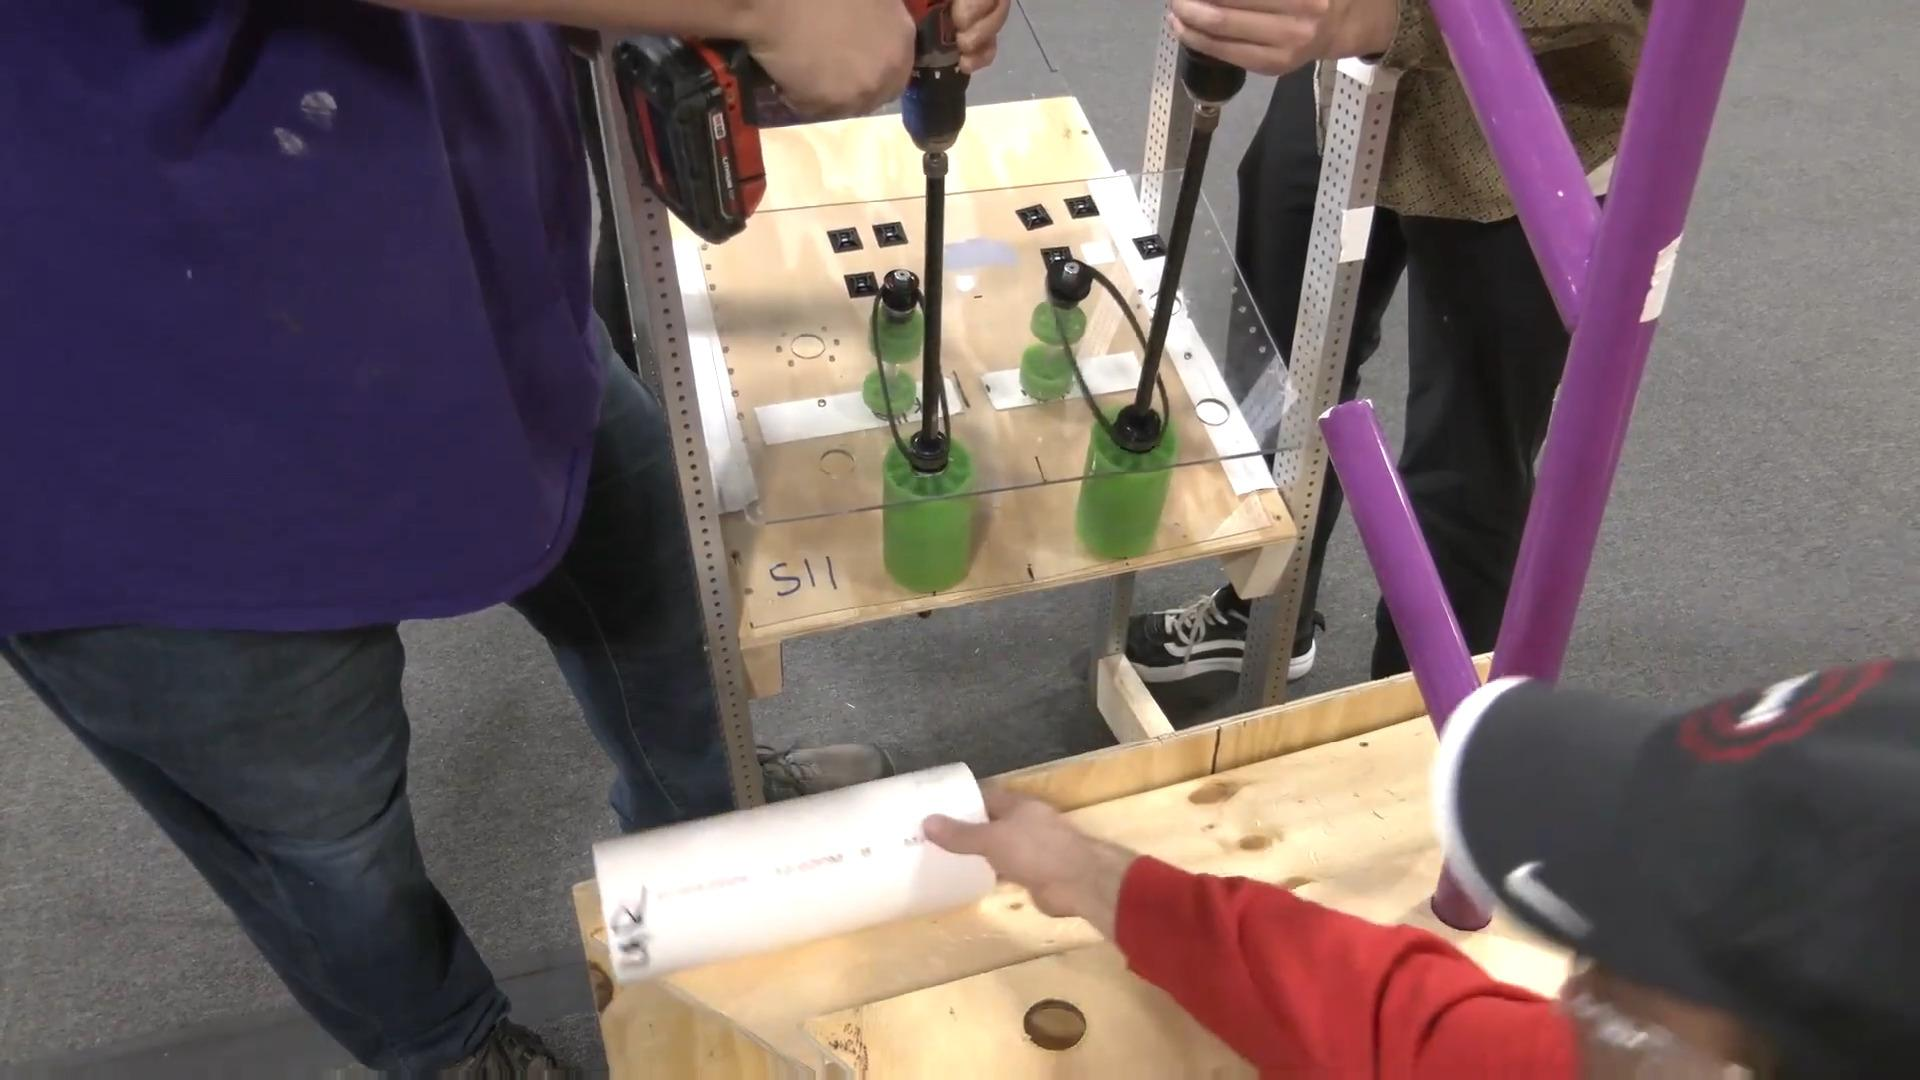coral: (592, 762, 997, 984)
